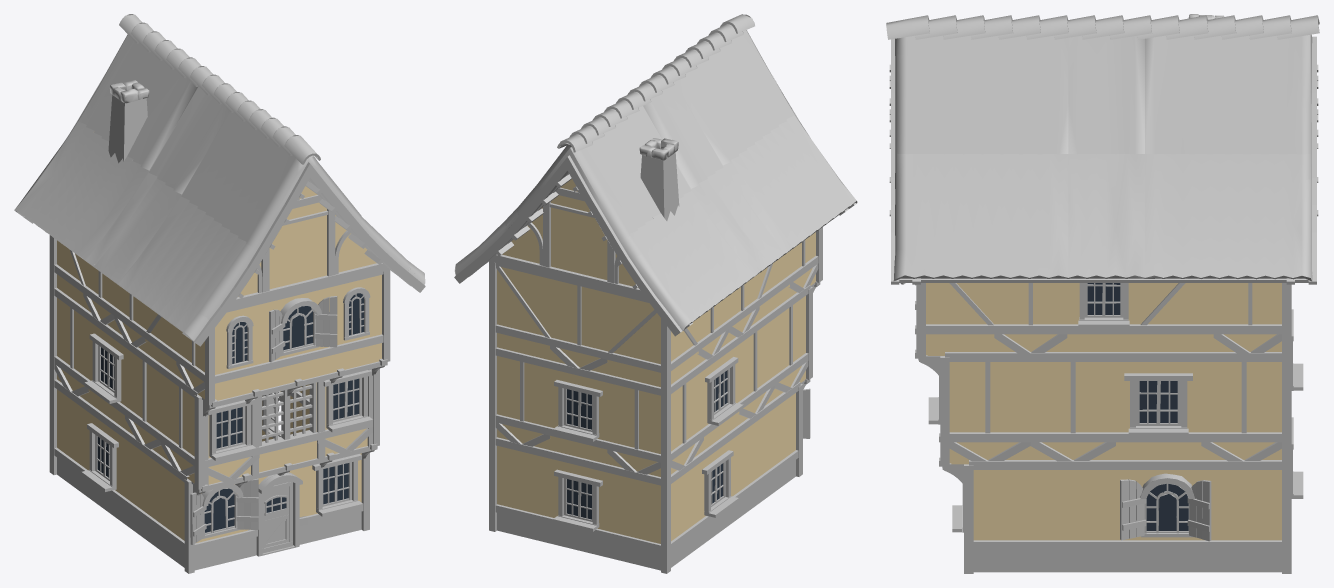
Rendered from townhouse_jettied.gltf.
3 views of the same model, side by side, from view 1: azimuth 30°, elevation 25°; view 2: azimuth 150°, elevation 25°; view 3: azimuth 270°, elevation 25° (orthographic). The views are drawn at different scales.
Parts seen in each view (by area): view 1: Roof_RoundTiles_6x10.094, Roof_Front_Brick6.095, Wall_Plaster_WoodGrid+upper.039, Wall_Plaster_Window_Thin_Round+upper.069, Wall_Plaster_Straight+upper.049, Wall_Plaster_Window_Thin_Round+upper.074, Wall_Plaster_Straight_Base.016, Wall_Plaster_Straight+upper.046, Wall_Plaster_Straight+upper.050, Wall_Plaster_Straight_Base.013, Wall_Plaster_Straight_Base.017, Prop_Chimney.097 (+35 smaller); view 2: Roof_RoundTiles_6x10.094, Roof_Front_Brick6.096, Wall_Plaster_Straight_Base.009, Wall_Plaster_Straight+upper.042, Wall_Plaster_Straight_Base.012, Wall_Plaster_Straight+upper.077, Wall_Plaster_Straight+upper.045, Wall_Plaster_Straight_L+upper.076, Wall_Plaster_Straight_R+upper.078, Wall_Plaster_Window_Wide_Flat.010, Wall_Plaster_Straight+upper.049, Wall_Plaster_Straight+upper.050 (+25 smaller); view 3: Roof_RoundTiles_6x10.094, Wall_Plaster_Straight+upper.052, Wall_Plaster_Straight+upper.051, Wall_Plaster_Straight+upper.055, Wall_Plaster_Straight_Base.018, Wall_Plaster_Straight_Base.019, Wall_Plaster_Straight_Base.023, Wall_Plaster_Window_Wide_Flat+upper.053, Wall_Plaster_Straight+upper.085, Wall_Plaster_Straight_R+upper.088, Wall_Plaster_Straight_L+upper.084, Wall_Plaster_Straight+upper.089 (+12 smaller).
Part boxes in pixels (x1,y1,x2,y2): Roof_RoundTiles_6x10.094: (14, 14, 425, 346); Roof_Front_Brick6.095: (229, 181, 390, 308); Wall_Plaster_WoodGrid+upper.039: (259, 382, 317, 472); Wall_Plaster_Window_Thin_Round+upper.069: (215, 299, 269, 400); Wall_Plaster_Straight+upper.049: (124, 340, 163, 456); Wall_Plaster_Window_Thin_Round+upper.074: (326, 271, 383, 373); Wall_Plaster_Straight_Base.016: (119, 427, 155, 546); Wall_Plaster_Straight+upper.046: (54, 287, 90, 403); Wall_Plaster_Straight+upper.050: (161, 366, 197, 483); Wall_Plaster_Straight_Base.013: (54, 379, 88, 497); Wall_Plaster_Straight_Base.017: (153, 452, 189, 567); Prop_Chimney.097: (108, 80, 149, 163); Roof_RoundTiles_6x10.094: (454, 14, 857, 336); Roof_Front_Brick6.096: (489, 174, 646, 299); Wall_Plaster_Straight_Base.009: (495, 437, 551, 543); Wall_Plaster_Straight+upper.042: (495, 347, 551, 450); Wall_Plaster_Straight_Base.012: (607, 464, 660, 570); Wall_Plaster_Straight+upper.077: (549, 276, 608, 374); Wall_Plaster_Straight+upper.045: (607, 374, 660, 476); Wall_Plaster_Straight_L+upper.076: (495, 263, 551, 360); Wall_Plaster_Straight_R+upper.078: (607, 290, 660, 387); Wall_Plaster_Window_Wide_Flat.010: (549, 450, 608, 557); Wall_Plaster_Straight+upper.049: (737, 310, 774, 425); Wall_Plaster_Straight+upper.050: (772, 285, 810, 399); Roof_RoundTiles_6x10.094: (886, 15, 1319, 284); Wall_Plaster_Straight+upper.052: (1030, 352, 1115, 461); Wall_Plaster_Straight+upper.051: (945, 352, 1030, 464); Wall_Plaster_Straight+upper.055: (1201, 352, 1281, 461); Wall_Plaster_Straight_Base.018: (969, 460, 1048, 572); Wall_Plaster_Straight_Base.019: (1048, 460, 1127, 572); Wall_Plaster_Straight_Base.023: (1207, 460, 1281, 572); Wall_Plaster_Window_Wide_Flat+upper.053: (1116, 352, 1201, 459); Wall_Plaster_Straight+upper.085: (994, 283, 1067, 353); Wall_Plaster_Straight_R+upper.088: (1140, 283, 1213, 351); Wall_Plaster_Straight_L+upper.084: (926, 283, 994, 355); Wall_Plaster_Straight+upper.089: (1213, 283, 1281, 353).
Size of the model in its own units: 8.25 by 14.02 by 10.9.
